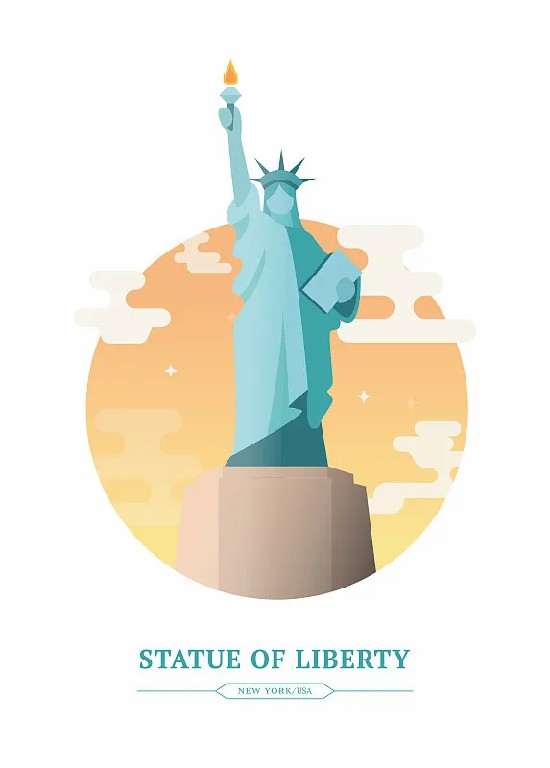SL: (175, 58, 377, 600)
